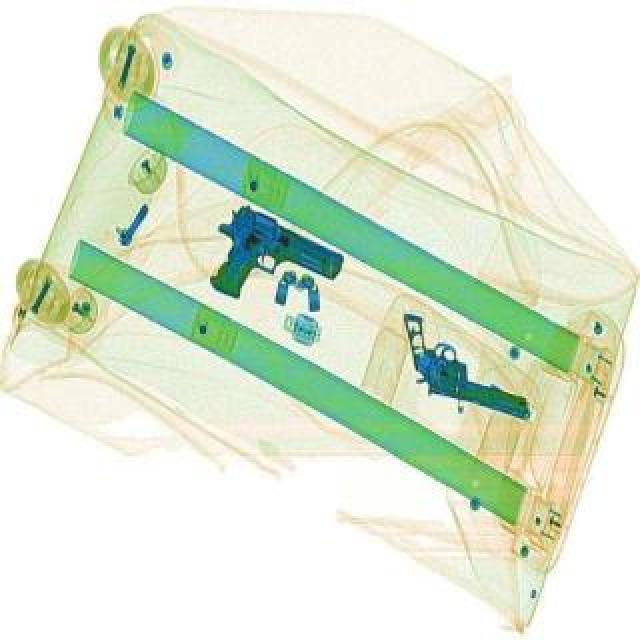gun: (188, 196, 348, 330), (382, 310, 550, 416)
